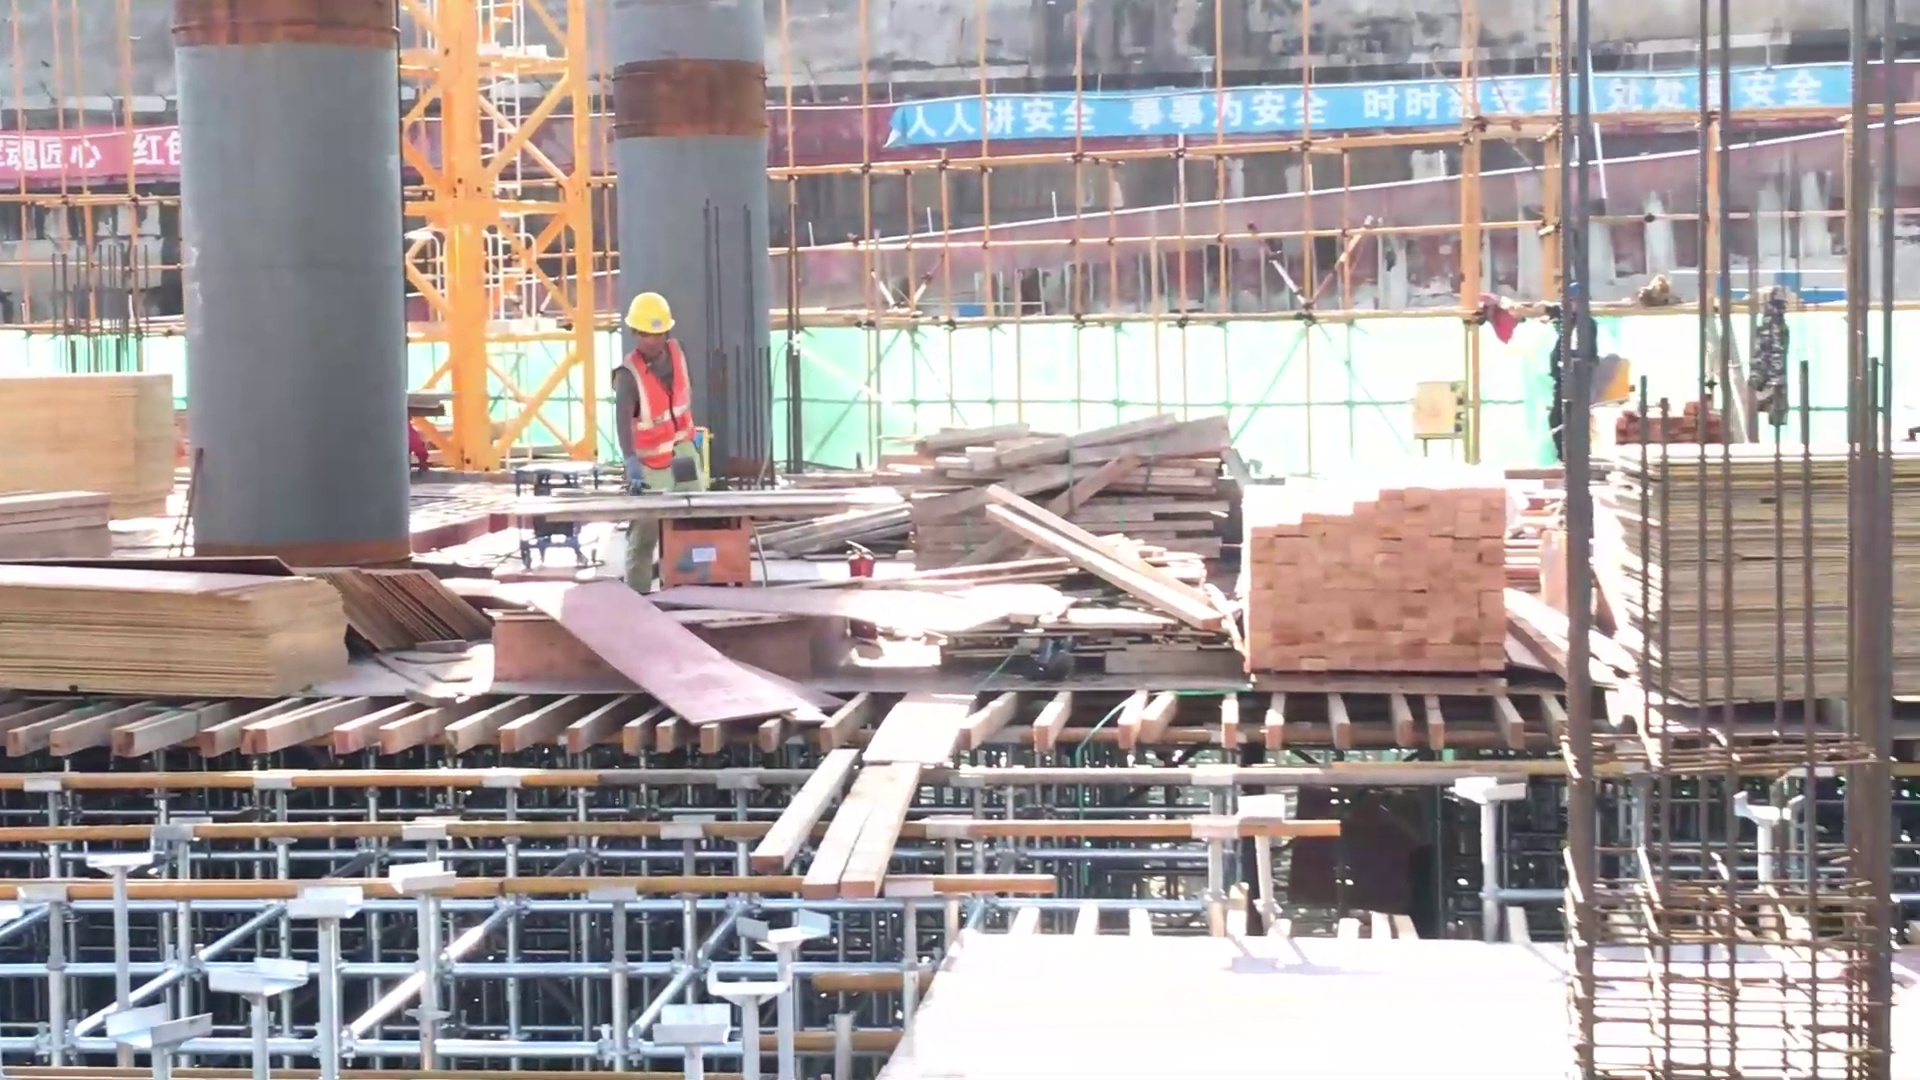board: (1575, 447, 1920, 707), (1, 560, 508, 694)
helmet: (621, 287, 678, 339)
slogan: (889, 83, 1838, 138), (3, 119, 200, 179)
vest: (615, 342, 705, 469)
wood: (1220, 451, 1531, 688)
